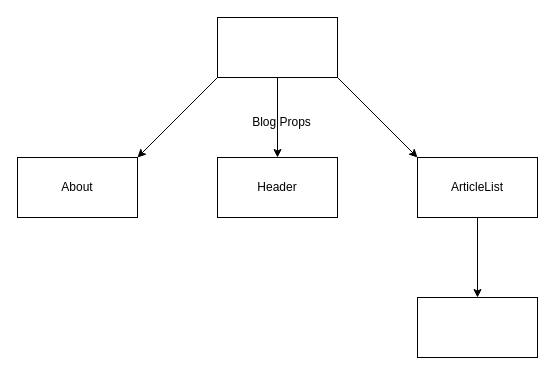
Some shapes in this 555 by 375 pixel diagram are drawn without their labels. The box of each missing label's shape, as (x1, y1, x2, y2) in pixels:
App: (216, 16, 338, 78)
Article: (416, 296, 538, 358)
